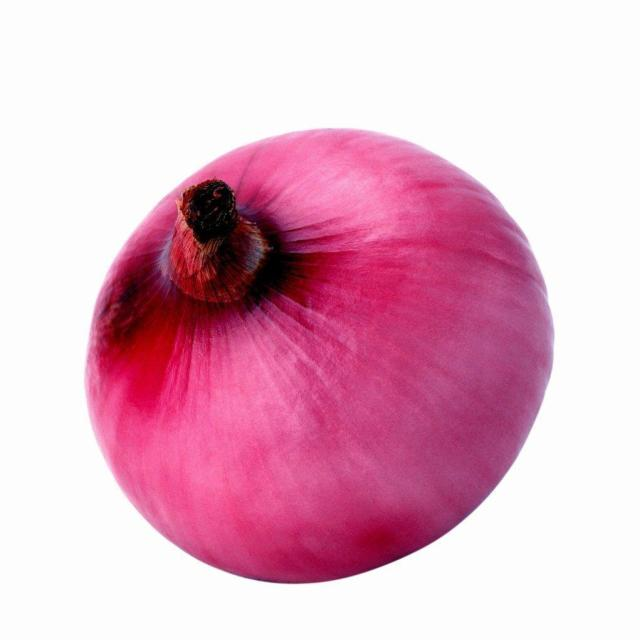Onion: (84, 124, 554, 584)
